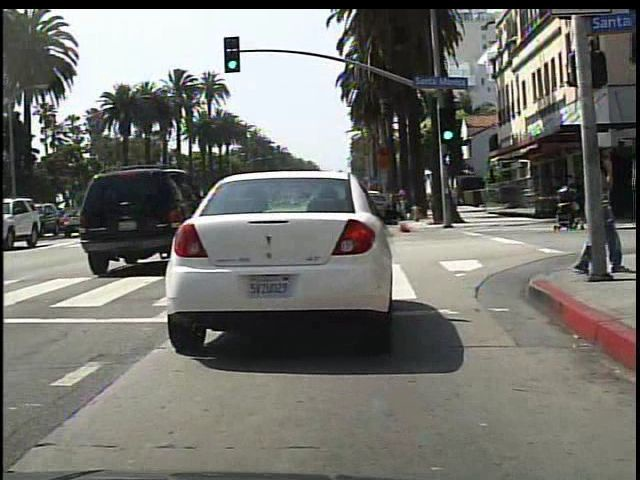person: (569, 141, 618, 277)
